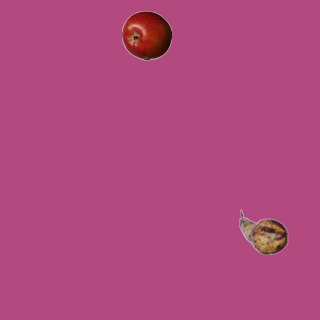Apple Braeburn: (121, 10, 171, 60)
Pear Abate: (238, 207, 288, 257)
